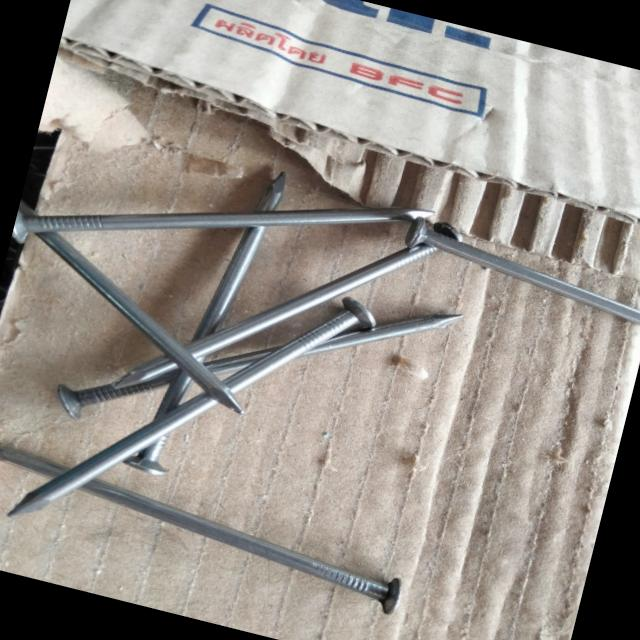3x10 nail: (0, 207, 412, 603), (8, 91, 450, 350), (0, 404, 441, 640)
